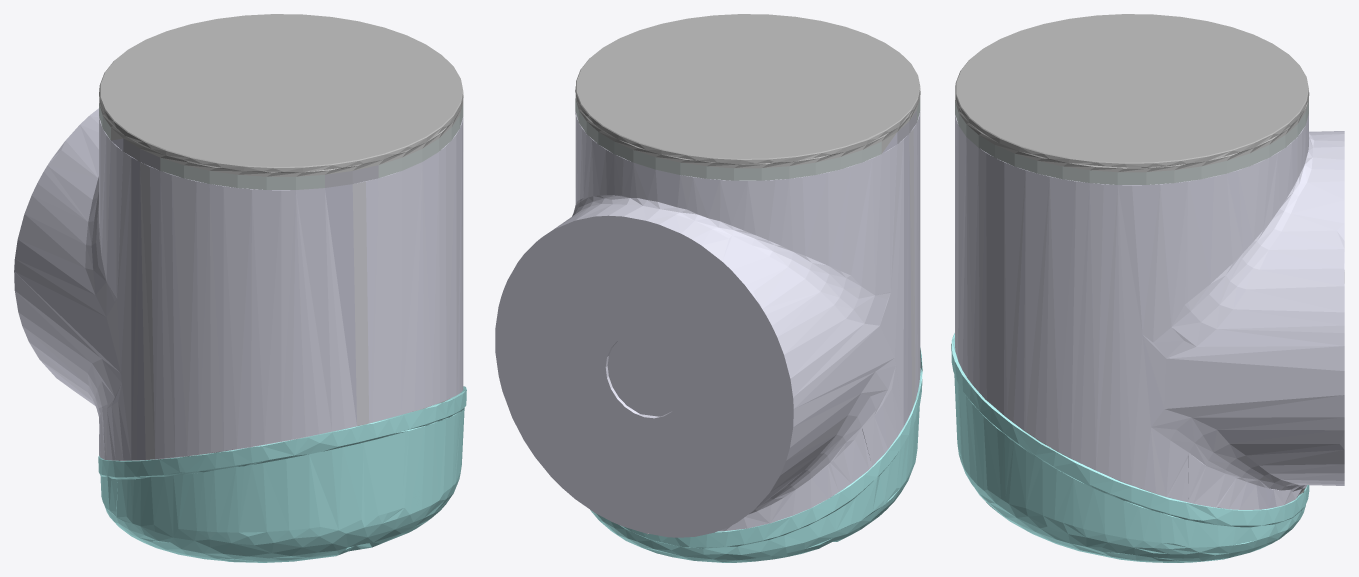
The picture shows the model from 3 angles, left to right: view 1: azimuth 30°, elevation 25°; view 2: azimuth 150°, elevation 25°; view 3: azimuth 270°, elevation 25°; orthographic projection. The views are drawn at different scales.
Parts seen in each view (by area): view 1: UR10Link5; view 2: UR10Link5; view 3: UR10Link5.
Part boxes in pixels (x1=…): UR10Link5: x1=14, y1=14, x2=466, y2=562; UR10Link5: x1=495, y1=14, x2=922, y2=562; UR10Link5: x1=951, y1=14, x2=1344, y2=562.
Size of the model in its own units: 0.091 by 0.0999 by 0.1187.
